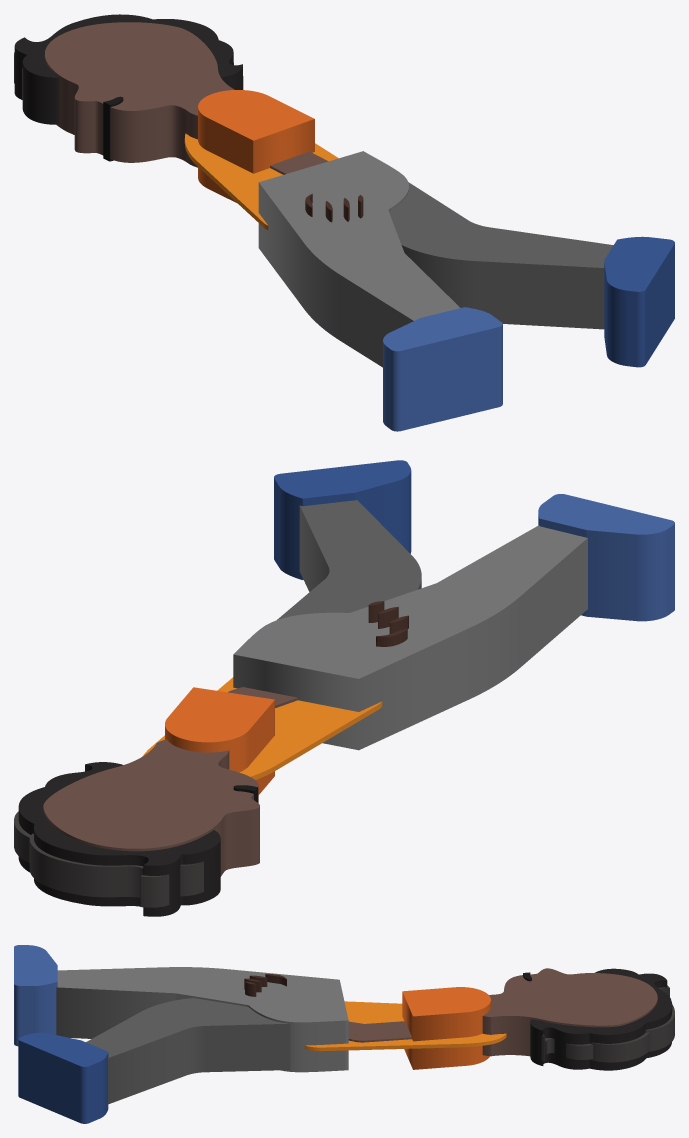
Rendered from emoji_u1f6b6_1f3ff.glb.
3 views of the same model, one above another, from view 1: azimuth 30°, elevation 25°; view 2: azimuth 150°, elevation 25°; view 3: azimuth 270°, elevation 25° (orthographic). The views are drawn at different scales.
Visible parts, largest first — view 1: emoji_u1f6b6_1f3ff; view 2: emoji_u1f6b6_1f3ff; view 3: emoji_u1f6b6_1f3ff.
Boxes of the visible parts, box(x1,y1,x2,y2) form: emoji_u1f6b6_1f3ff: box(14, 14, 674, 431); emoji_u1f6b6_1f3ff: box(14, 460, 674, 916); emoji_u1f6b6_1f3ff: box(14, 945, 674, 1123).
Size of the model in its own units: 0.0145 by 0.0042 by 0.0336.
